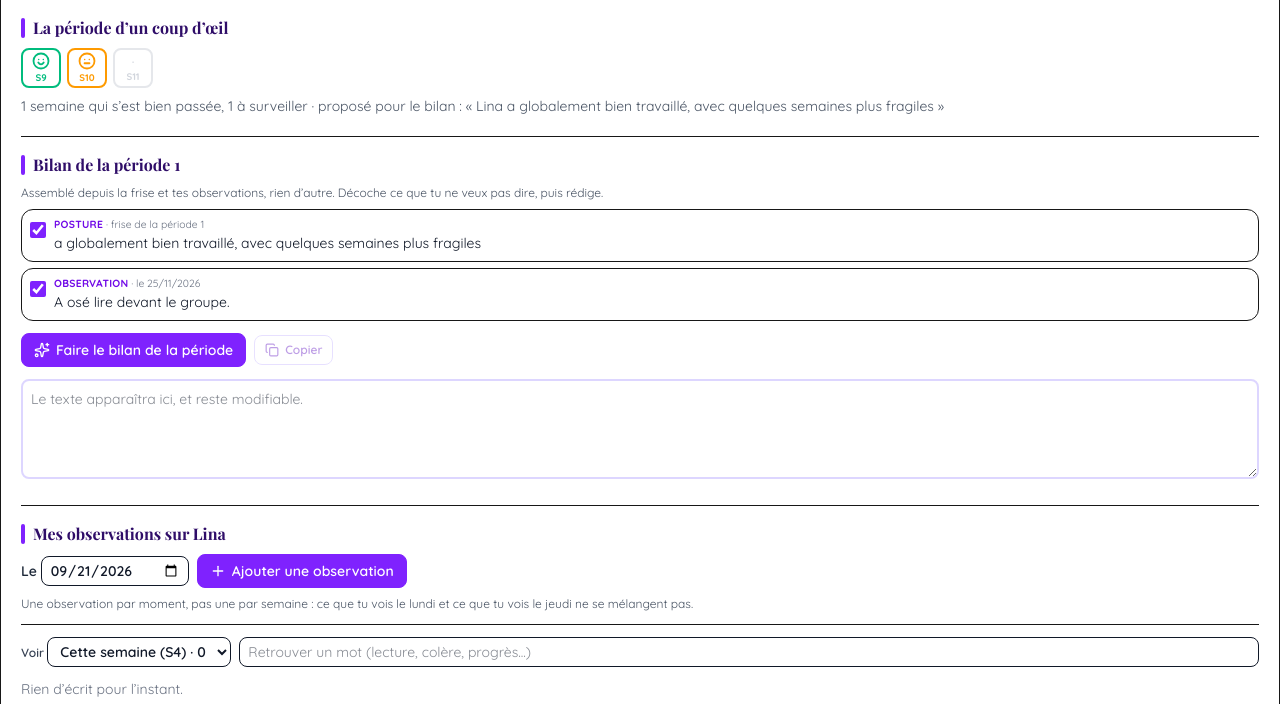
SuiviEleves › dit où la note a été rangée quand ce n’est pas la semaine ouverte
(page scrolled)
Type "2026-09-18" into the date field named "date de la nouvelle observation" at [115, 571], box [41, 556, 189, 586]
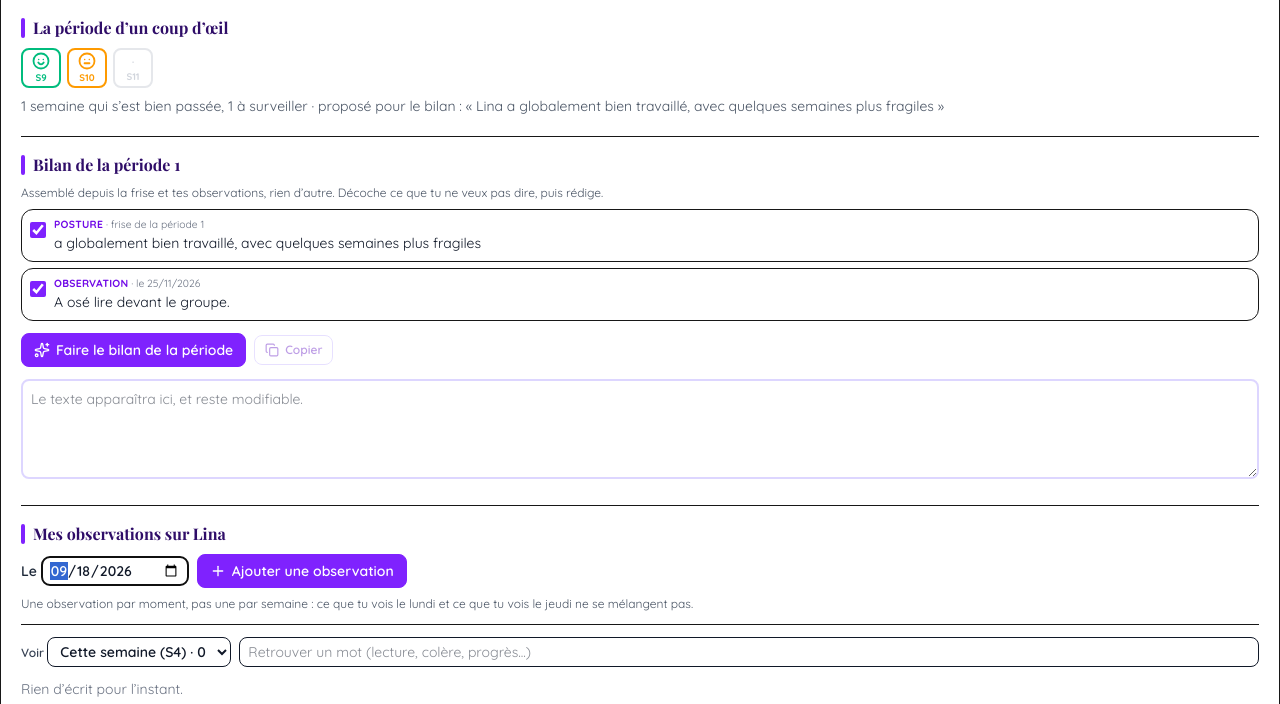
Click the button "Ajouter une observation" at [302, 571], box [197, 554, 407, 588]
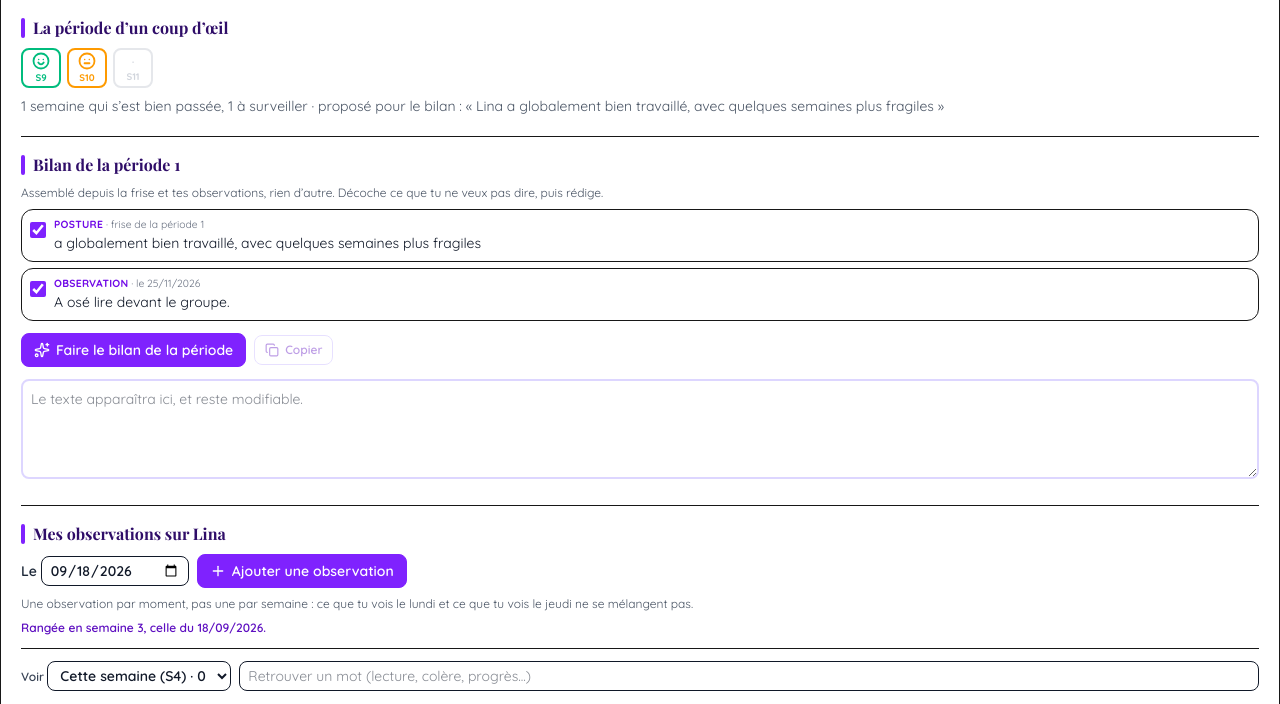
Expected: the text "Rangée en semaine 3, celle du 18/09/2026." is shown, [21, 620, 266, 635]
